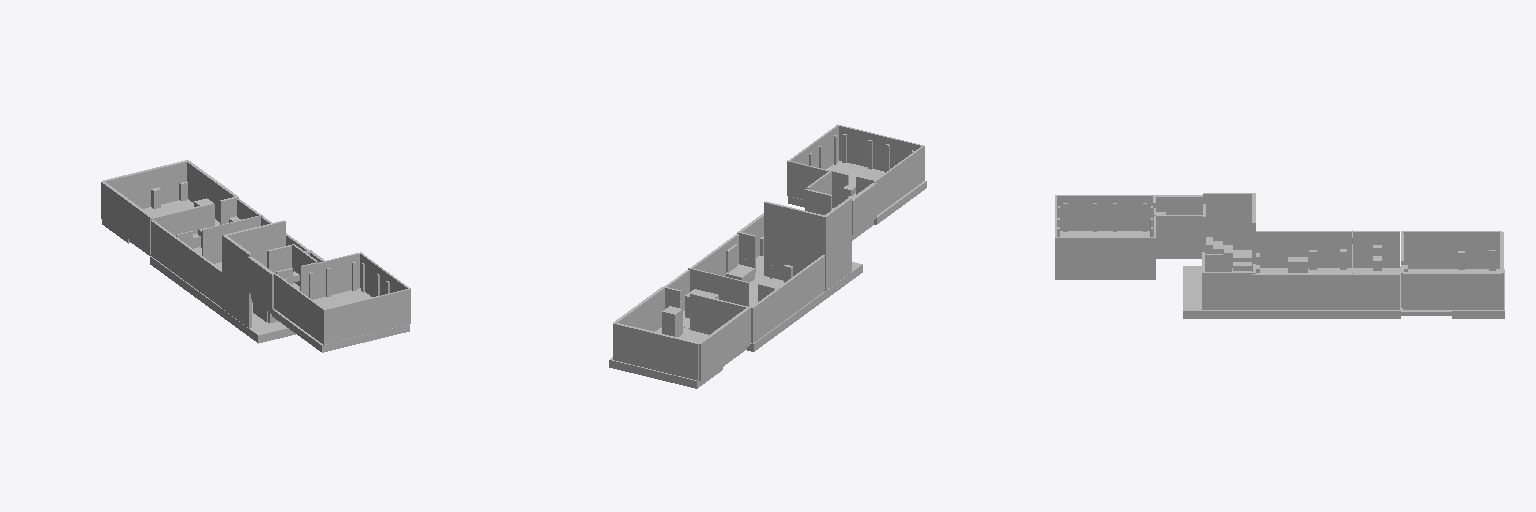
Rendered from dungeon_hitbox.obj.
3 renders of one model, left to right at view 1: azimuth 30°, elevation 25°; view 2: azimuth 150°, elevation 25°; view 3: azimuth 270°, elevation 25°, orthographic.
Parts seen in each view (by area): view 1: Cube.080, Cube.017, Cube.014, Cube.025, Cube.013, Cube.079, Cube, Cube.077, Cube.024, Cube.081, Cube.012, Cube.015 (+5 smaller); view 2: Cube.024, Cube.014, Cube.017, Cube.025, Cube.013, Cube.080, Cube.079, Cube, Cube.015, Cube.019, Cube.077, Cube.012 (+8 smaller); view 3: Cube.018, Cube.017, Cube.012, Cube.078, Cube.013, Cube, Cube.079, Cube.025, Cube.022, Cube.060, Cube.077, Cube.061 (+1 smaller).
Part boxes in pixels (x1,y1,x2,y2): Cube.080: (325,288,410,344); Cube.017: (151,220,221,307); Cube.014: (103,160,187,208); Cube.025: (222,234,251,327); Cube.013: (101,181,152,254); Cube.079: (274,273,324,344); Cube: (150,247,295,343); Cube.077: (272,288,409,352); Cube.024: (223,220,285,302); Cube.081: (317,252,361,298); Cube.012: (187,160,237,221); Cube.015: (151,203,211,235); Cube.024: (764,201,826,280); Cube.014: (613,323,698,380); Cube.017: (751,255,824,343); Cube.025: (823,197,851,290); Cube.013: (699,307,749,380); Cube.080: (837,124,923,171); Cube.079: (873,146,924,214); Cube: (683,256,862,351); Cube.015: (690,293,750,343); Cube.019: (688,268,748,306); Cube.077: (788,160,926,224); Cube.012: (613,287,664,331); Cube.018: (1252,273,1399,309); Cube.017: (1256,231,1399,267); Cube.012: (1403,272,1501,309); Cube.078: (1055,237,1154,272); Cube.013: (1403,231,1501,268); Cube: (1183,266,1400,318); Cube.079: (1055,195,1152,230); Cube.025: (1203,193,1251,267); Cube.022: (1202,272,1252,309); Cube.060: (1156,215,1202,251); Cube.077: (1055,231,1155,279); Cube.061: (1156,195,1202,214).
Size of the model in its own units: 10.73 by 9.04 by 45.13.